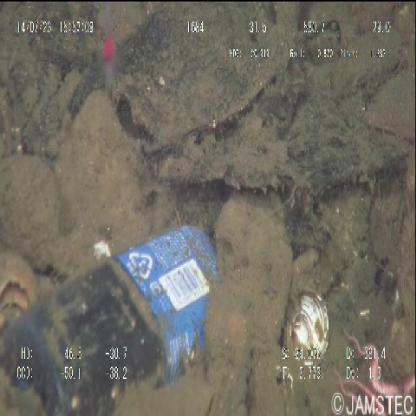Rác: (0, 226, 220, 416)
